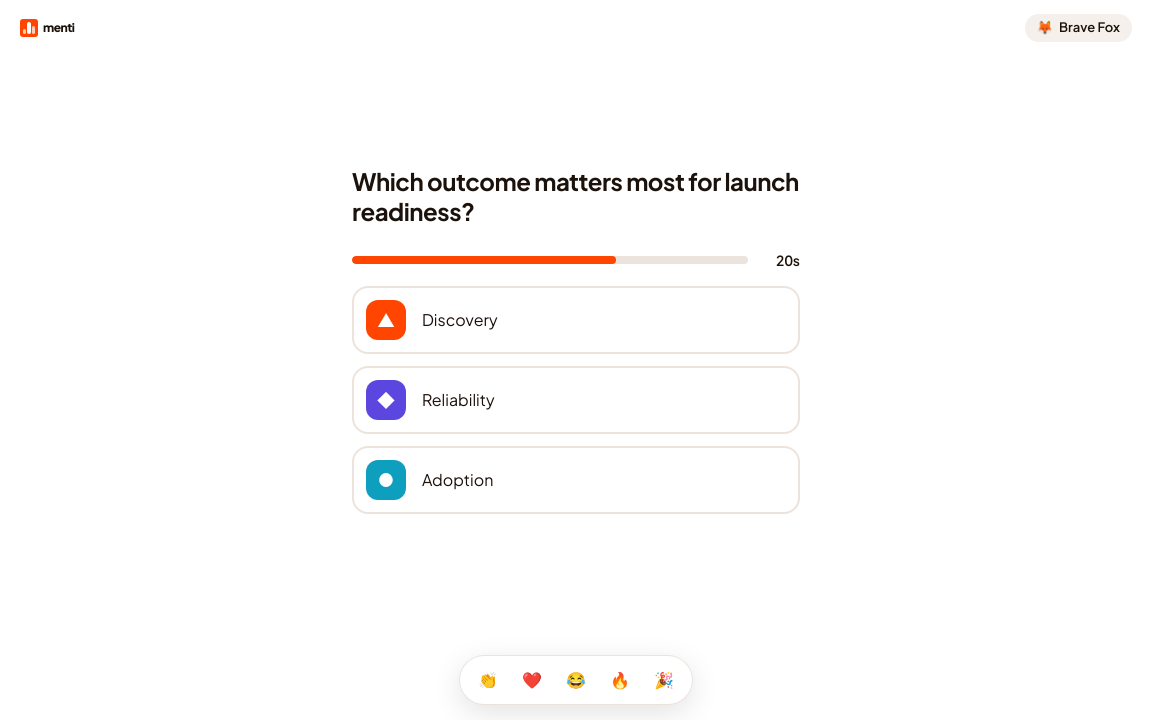
Scenario: VotePage › submits a quiz answer and locks it in until the reveal
Expected: the heading "Which outcome matters most for launch readiness?" is shown, [352,166,800,226]
Click the button "◆ Reliability". click: (386, 400)
box: [352,366,800,434]
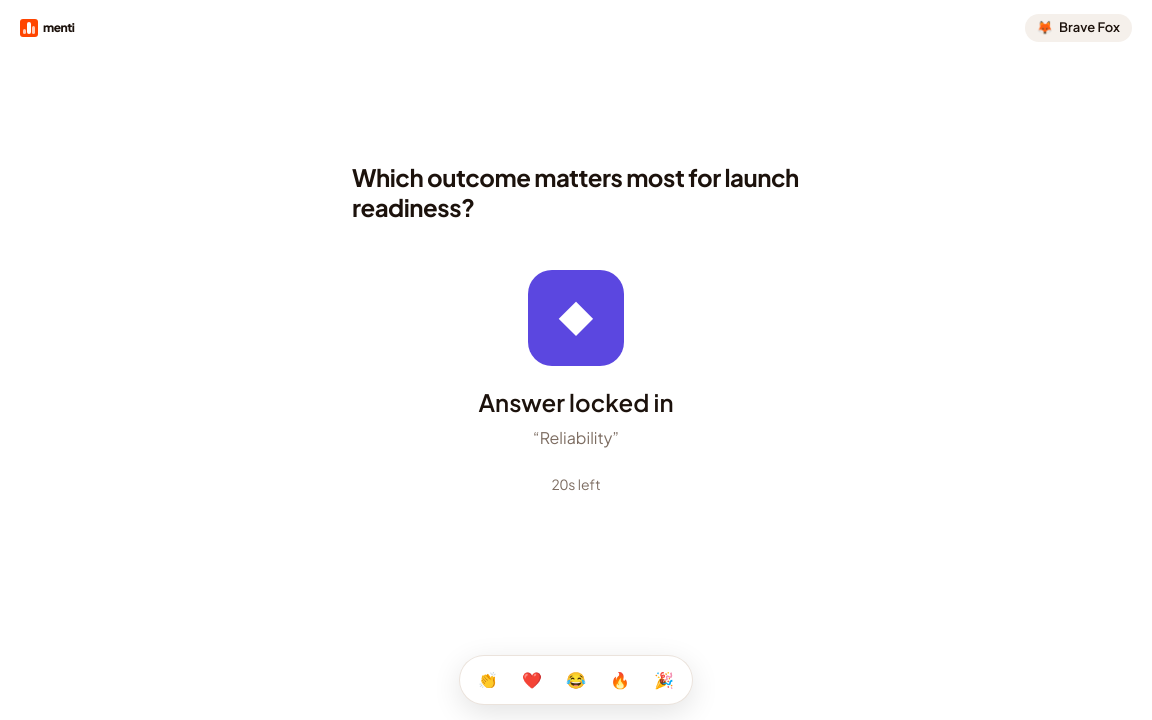
Now the text "Answer locked in" is shown, box [478,387,674,417]
Now the text "“Reliability”" is shown, box [533,427,619,448]
